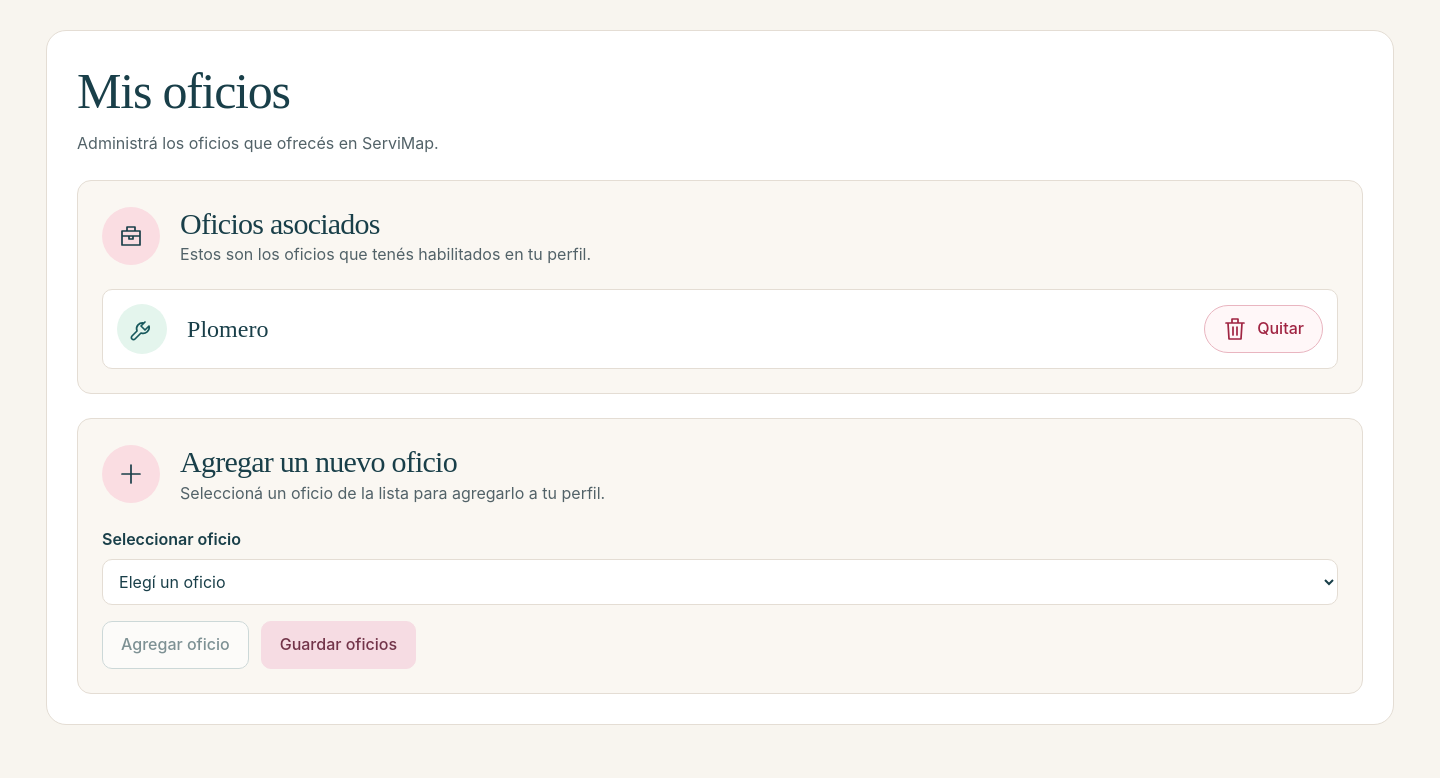
Test: Oficios remotos del prestador › agrega un oficio y envía sus IDs por PUT
The width and height of the screenshot is (1440, 778).
Expected: the button with aria-label "Quitar Plomero" is shown, [1204,305,1323,353]
Select "Electricista" in the dropdown labelled "Seleccionar oficio" at (720, 582), box [102,559,1338,605]
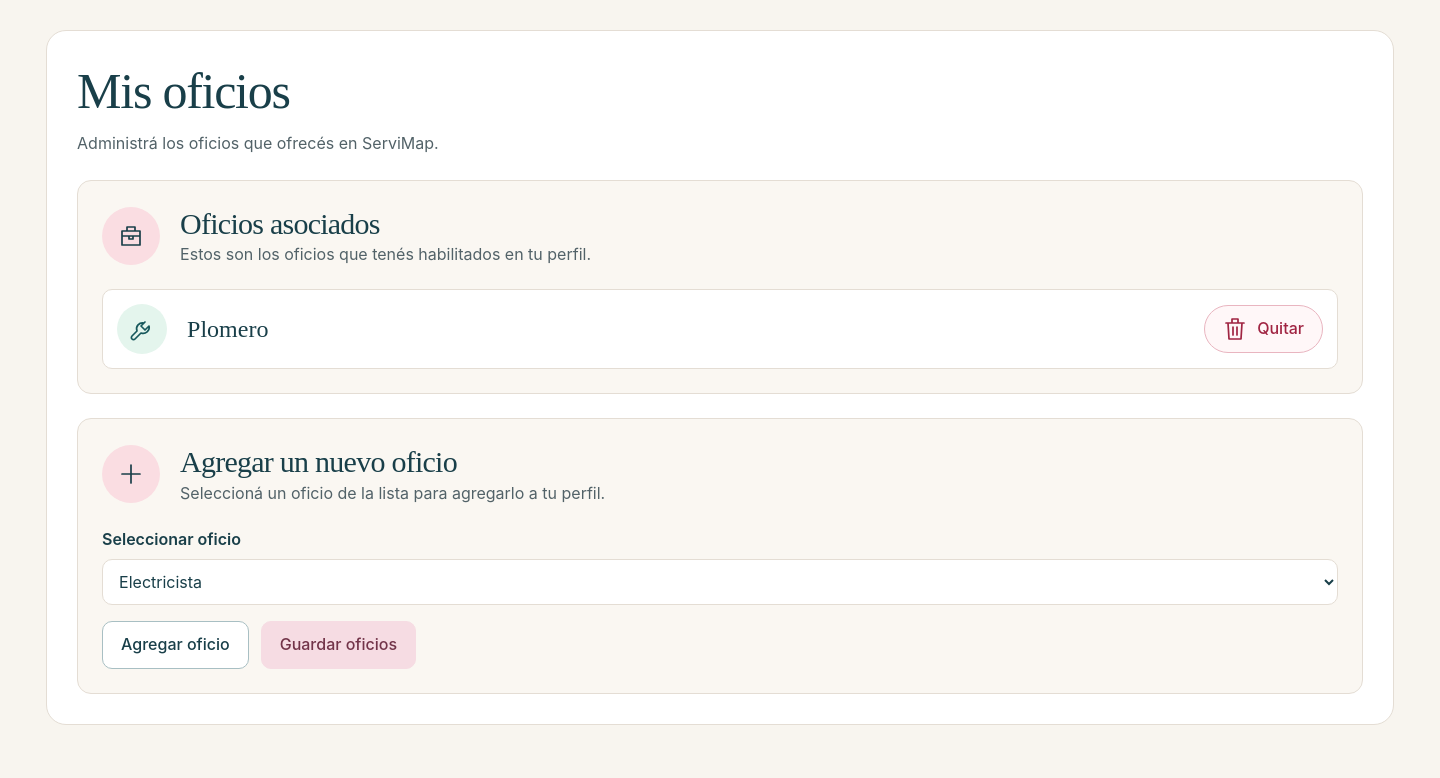
Click the button "Agregar oficio" at (175, 645), box [102,621,249,669]
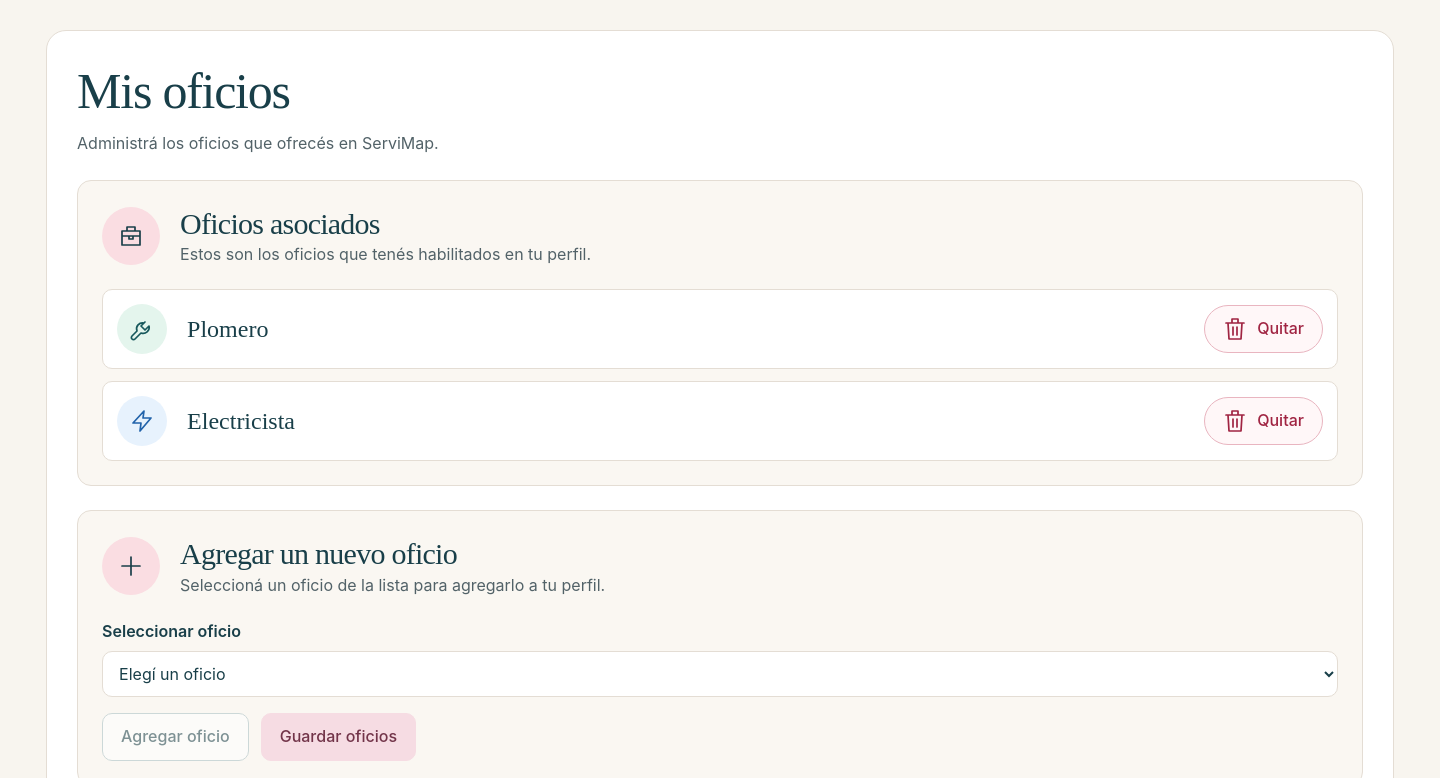
Click the button "Guardar oficios" at (338, 737), box [261,713,416,761]
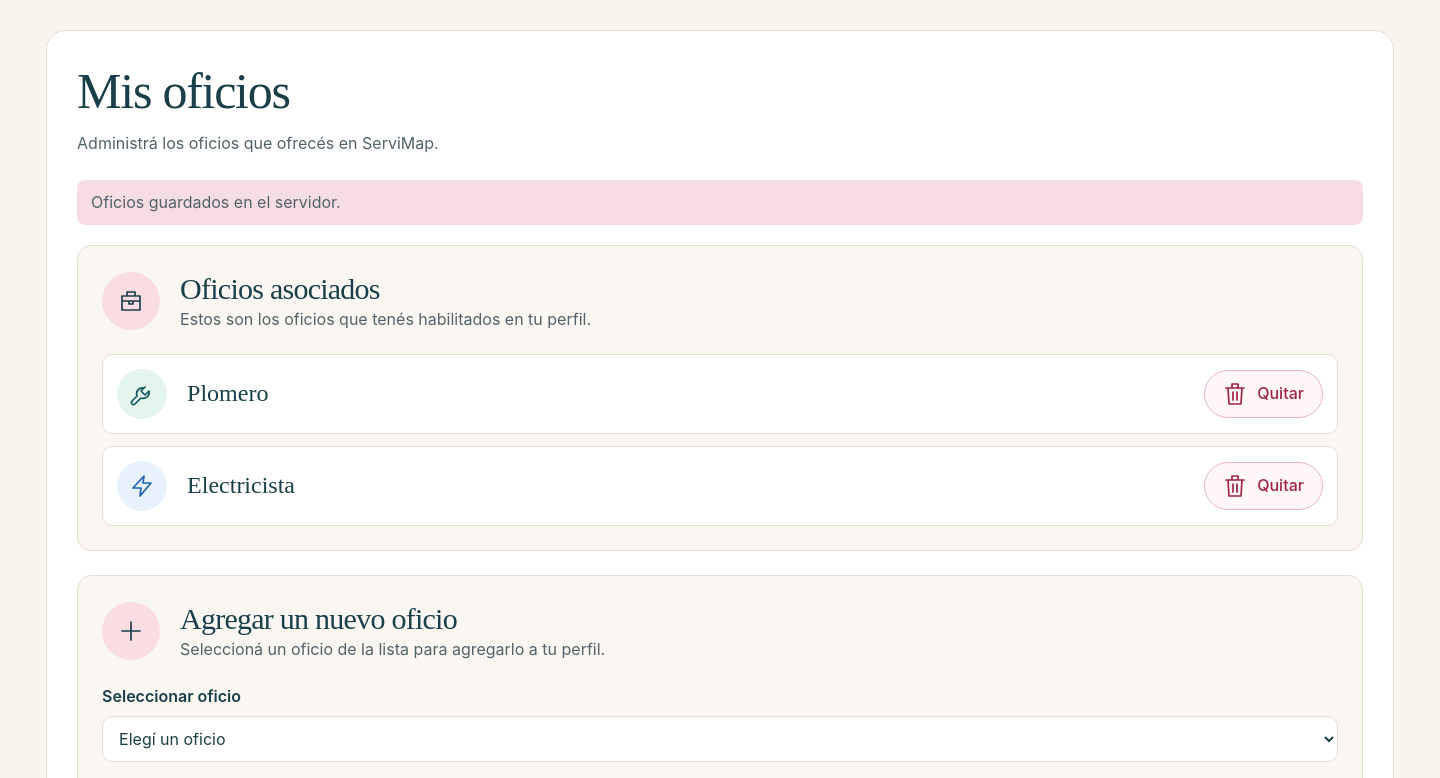
Now the text "Oficios guardados en el servidor." is shown, box [77,180,1363,225]
